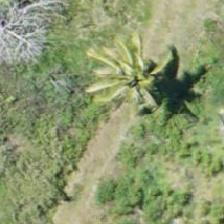coconut_tree: (104, 46, 194, 136)
